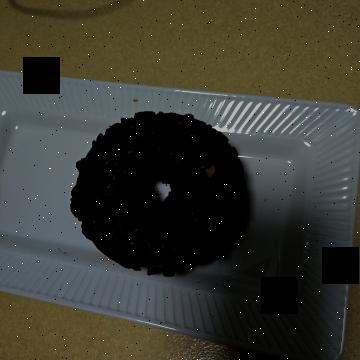doughnut: (97, 108, 280, 303)
